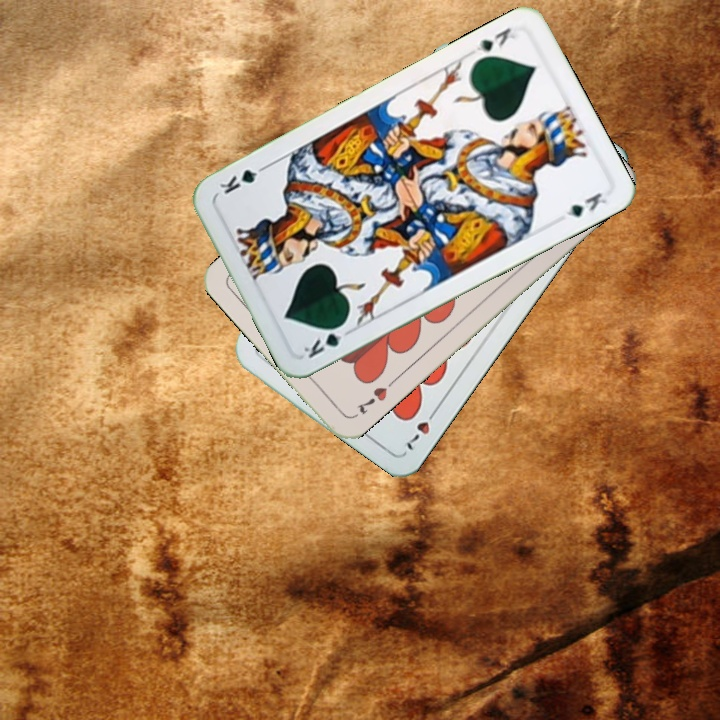GK: (299, 319, 354, 361), (472, 23, 522, 55)
H7: (402, 403, 442, 453), (352, 382, 390, 417)
